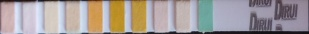color 1: (2, 3, 13, 32)
color 10: (199, 2, 211, 29)
color 2: (23, 3, 35, 31)
color 3: (46, 3, 58, 32)
color 4: (67, 2, 79, 30)
color 5: (89, 2, 102, 32)
color 6: (111, 2, 123, 31)
color 7: (132, 2, 145, 31)
color 8: (155, 3, 167, 31)
color 9: (177, 2, 188, 31)
